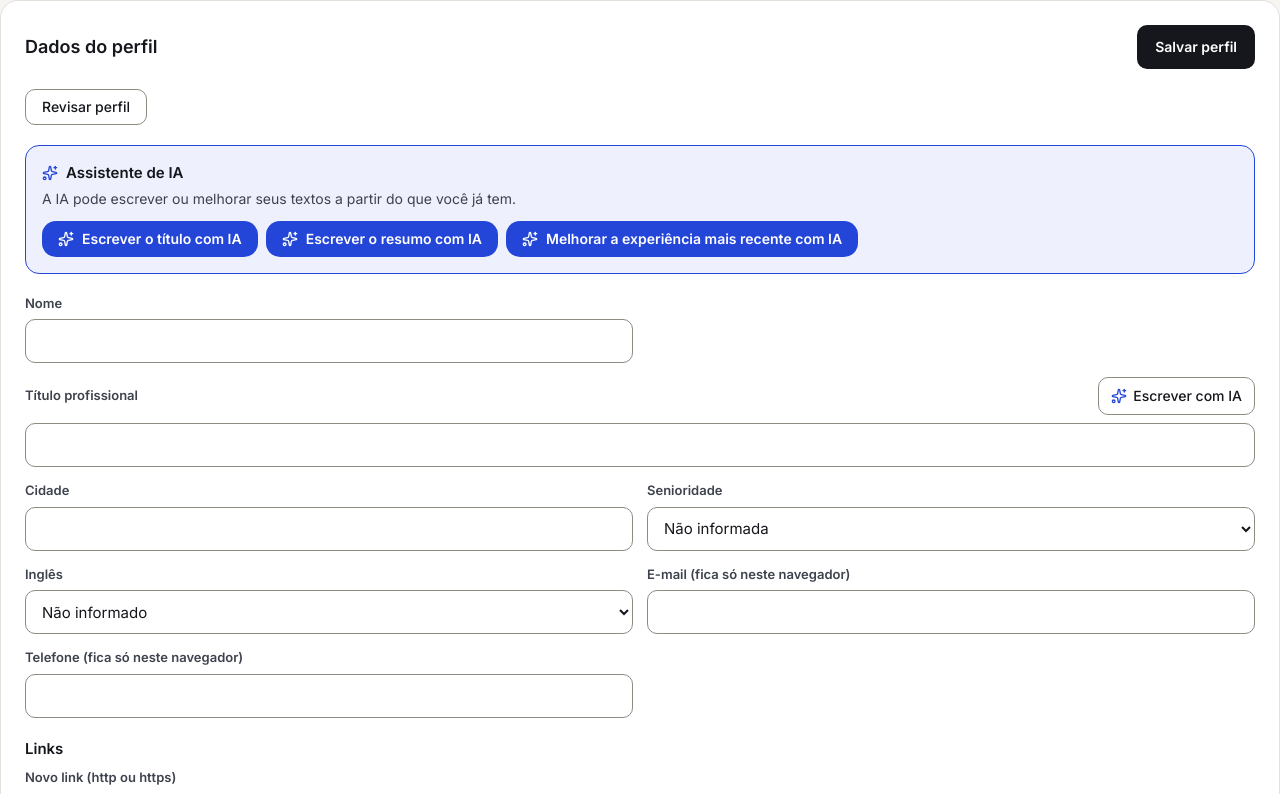
Test case: assistente visível no perfil › o atalho de experiências abre a experiência fechada e o assistente dela
Click the button "Melhorar a experiência mais recente com IA": x=682, y=238 [506,220,858,256]
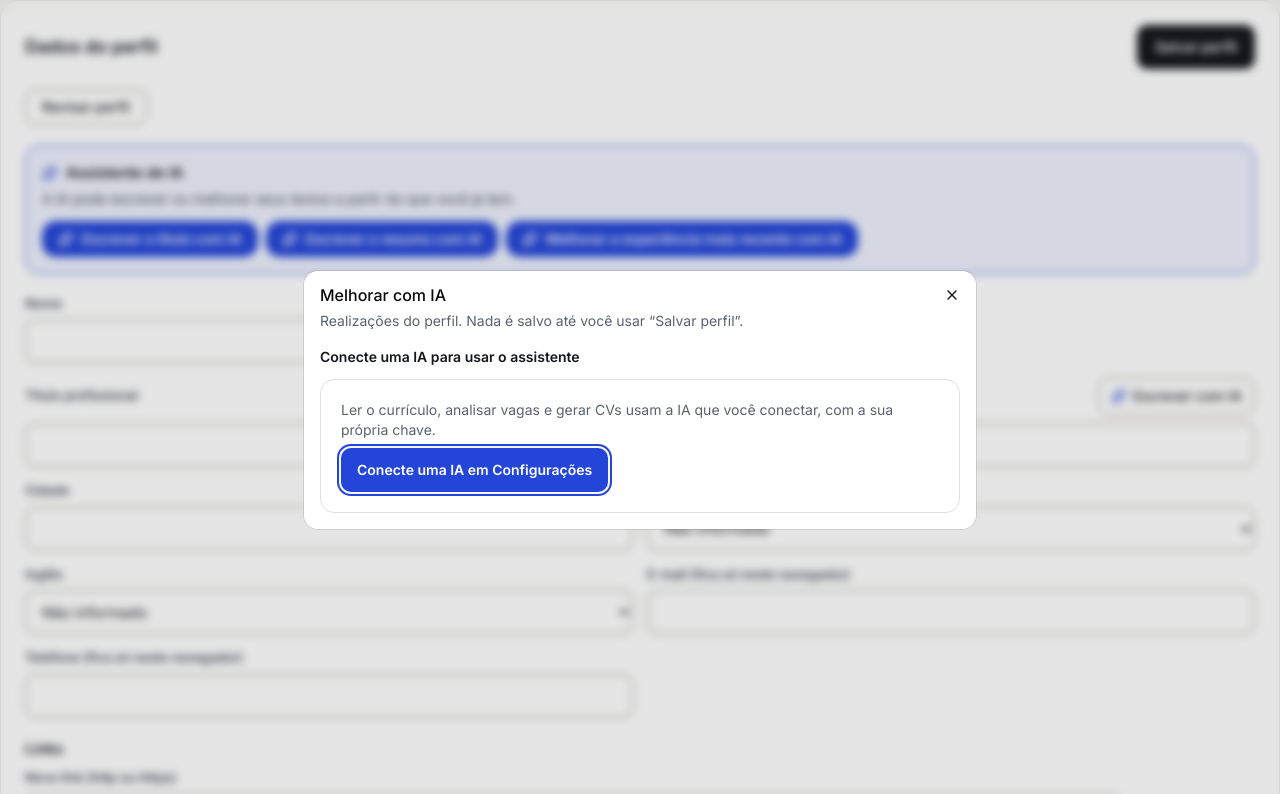
Expected: the dialog is shown, [304,271,976,529]
